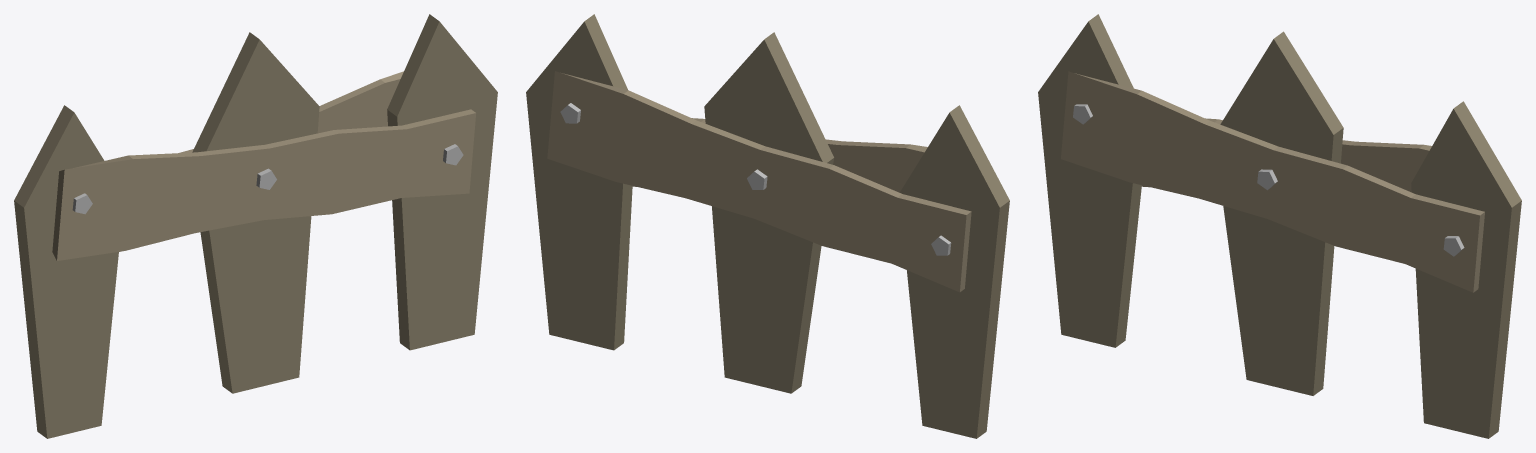
File: Fence.fbx
The picture shows the model from 3 angles, left to right: view 1: azimuth 30°, elevation 25°; view 2: azimuth 150°, elevation 25°; view 3: azimuth 330°, elevation 25°; orthographic projection.
Parts seen in each view (by area): view 1: Fence; view 2: Fence; view 3: Fence.
Part boxes in pixels (x1,y1,x2,y2): Fence: (14,14,497,438); Fence: (526,14,1009,438); Fence: (1038,14,1521,438).
Size of the model in its own units: 5.44 by 3.81 by 0.5228.
